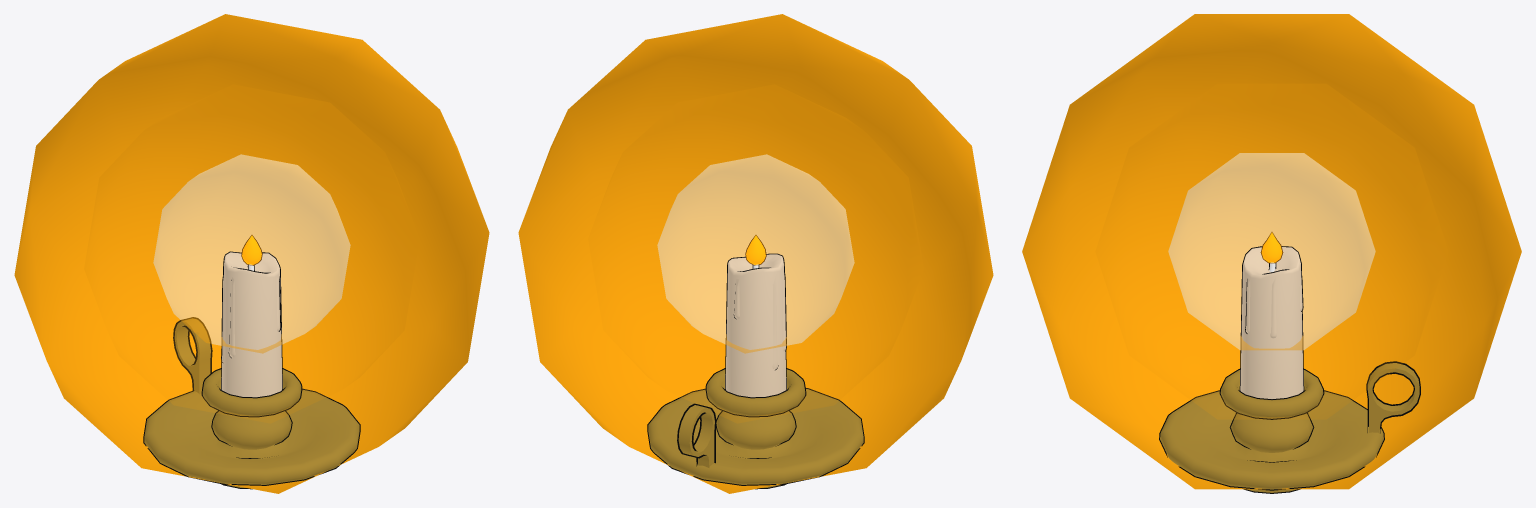
Rendered from candle.glb.
3 views of the same model, side by side, from view 1: azimuth 30°, elevation 25°; view 2: azimuth 150°, elevation 25°; view 3: azimuth 270°, elevation 25° (orthographic). The views are drawn at different scales.
Parts seen in each view (by area): view 1: glow3, glow2, glow1, base, candle, handle, base outline, candle outline; view 2: glow3, glow2, glow1, base, candle, handle, base outline; view 3: glow3, glow2, glow1, base, candle, handle, base outline, handle outline, candle outline.
Boxes of the visible parts, box(x1,y1,x2,y2) form: glow3: box(14, 14, 489, 493); glow2: box(84, 85, 419, 422); glow1: box(153, 154, 350, 353); base: box(144, 369, 359, 487); candle: box(221, 252, 282, 397); handle: box(174, 318, 210, 394); base outline: box(143, 368, 360, 489); candle outline: box(221, 251, 282, 389); glow3: box(518, 14, 993, 493); glow2: box(588, 85, 923, 422); glow1: box(657, 154, 854, 353); base: box(648, 369, 863, 487); candle: box(725, 254, 786, 397); handle: box(678, 405, 714, 467); base outline: box(647, 368, 864, 489); glow3: box(1022, 14, 1521, 489); glow2: box(1096, 84, 1447, 418); glow1: box(1168, 153, 1375, 349); base: box(1160, 370, 1383, 492); candle: box(1240, 247, 1303, 398); handle: box(1367, 363, 1419, 433); base outline: box(1159, 369, 1384, 493); handle outline: box(1366, 361, 1420, 433); candle outline: box(1239, 246, 1304, 390).
Bounding box in the file's own units: 1046 × 1100 × 1100.
